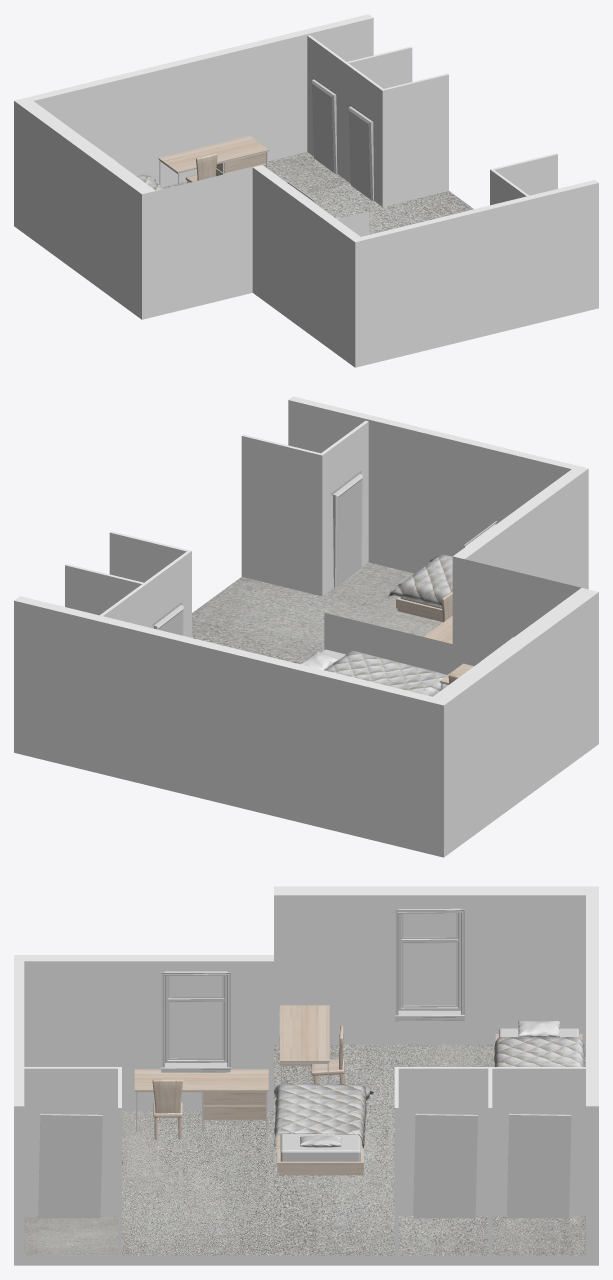
File: suite3.glb
3 renders of one model, top to bottom at view 1: azimuth 30°, elevation 25°; view 2: azimuth 150°, elevation 25°; view 3: azimuth 270°, elevation 25°, orthographic. The views are drawn at different scales.
Visible parts, largest first — view 1: Cube.007, Cube.021, Plane.004, Cube.008, Cube.001, Cube.027, Cube.012, Cube.006, Cube.010, Cube.011, Cube.005, Plane (+2 smaller); view 2: Cube.007, Cube.021, Cube.027, Plane.004, Cube.008, Plane.005, Cube.001, Cube.028, Plane.002, Plane.006, Cube.012, Cube.017; view 3: Cube.007, Cube.021, Cube.027, Cube.001, Cube.008, Cube.028, Cube.006, Cube.012, Plane.002, window, window.001, Plane.001 (+13 smaller).
Part boxes in pixels (left/top/right/bottom): Cube.007: left=14, top=14, right=473, bottom=319; Cube.021: left=252, top=165, right=598, bottom=367; Plane.004: left=156, top=167, right=252, bottom=310; Cube.008: left=344, top=62, right=448, bottom=206; Cube.001: left=307, top=35, right=412, bottom=178; Cube.027: left=490, top=153, right=557, bottom=205; Cube.012: left=348, top=103, right=374, bottom=200; Cube.006: left=312, top=76, right=337, bottom=173; Cube.010: left=204, top=136, right=268, bottom=174; Cube.011: left=204, top=135, right=269, bottom=168; Cube.005: left=158, top=147, right=223, bottom=185; Plane: left=185, top=153, right=217, bottom=183; Cube.007: left=14, top=588, right=598, bottom=857; Cube.021: left=192, top=396, right=588, bottom=670; Cube.027: left=241, top=420, right=368, bottom=596; Plane.004: left=463, top=559, right=581, bottom=666; Cube.008: left=109, top=531, right=191, bottom=637; Plane.005: left=324, top=613, right=452, bottom=674; Cube.001: left=65, top=564, right=145, bottom=626; Cube.028: left=331, top=470, right=362, bottom=587; Plane.002: left=324, top=650, right=448, bottom=696; Plane.006: left=386, top=554, right=452, bottom=607; Cube.012: left=152, top=601, right=183, bottom=635; Cube.017: left=396, top=597, right=442, bottom=621; Cube.007: left=274, top=886, right=598, bottom=1265; Cube.021: left=14, top=955, right=273, bottom=1265; Cube.027: left=24, top=1067, right=121, bottom=1265; Cube.001: left=488, top=1067, right=585, bottom=1265; Cube.008: left=394, top=1067, right=488, bottom=1265; Cube.028: left=38, top=1113, right=102, bottom=1218; Cube.006: left=507, top=1113, right=571, bottom=1218; Cube.012: left=413, top=1113, right=477, bottom=1218; Plane.002: left=273, top=1083, right=373, bottom=1148; window: left=395, top=908, right=464, bottom=1021; window.001: left=161, top=971, right=230, bottom=1072; Plane.001: left=493, top=1037, right=584, bottom=1066.
Size of the model in its own units: 16.67 by 5.64 by 18.76.
13 materials, 6 textured.
